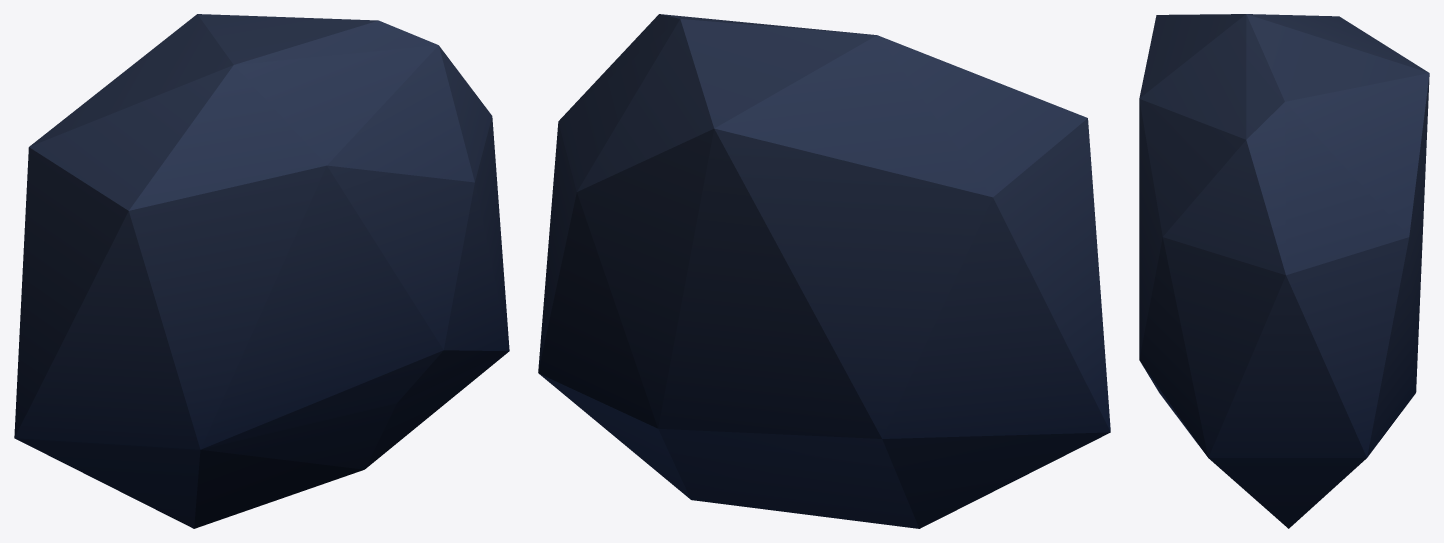
The model's file is Spike_3.glb.
3 renders of one model, left to right at view 1: azimuth 30°, elevation 25°; view 2: azimuth 150°, elevation 25°; view 3: azimuth 270°, elevation 25°, orthographic. The views are drawn at different scales.
Visible parts, largest first — view 1: lamplighter__Spike_3__stone; view 2: lamplighter__Spike_3__stone; view 3: lamplighter__Spike_3__stone.
Boxes of the visible parts, x1,y1,x2,y2 form: lamplighter__Spike_3__stone: [14, 14, 509, 528]; lamplighter__Spike_3__stone: [538, 14, 1110, 528]; lamplighter__Spike_3__stone: [1139, 14, 1429, 528].
Bounding box in the file's own units: 0.67 × 0.5882 × 0.3495.
